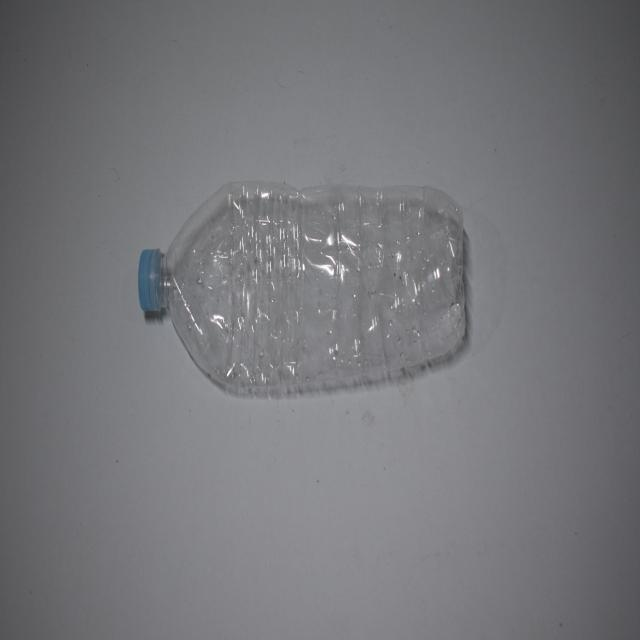empty: (137, 182, 465, 396)
